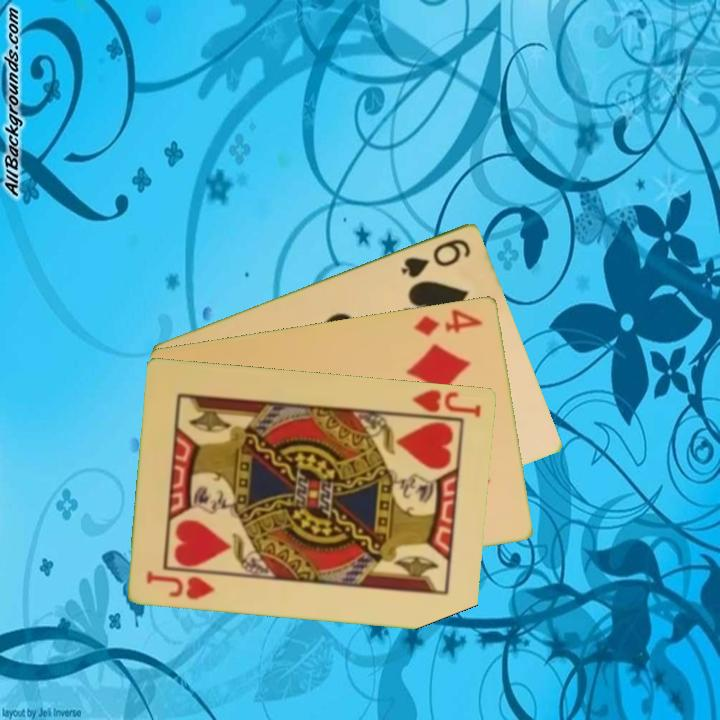4d: (410, 305, 486, 339)
6s: (397, 234, 474, 281)
Jh: (401, 385, 485, 423), (143, 566, 218, 602)
